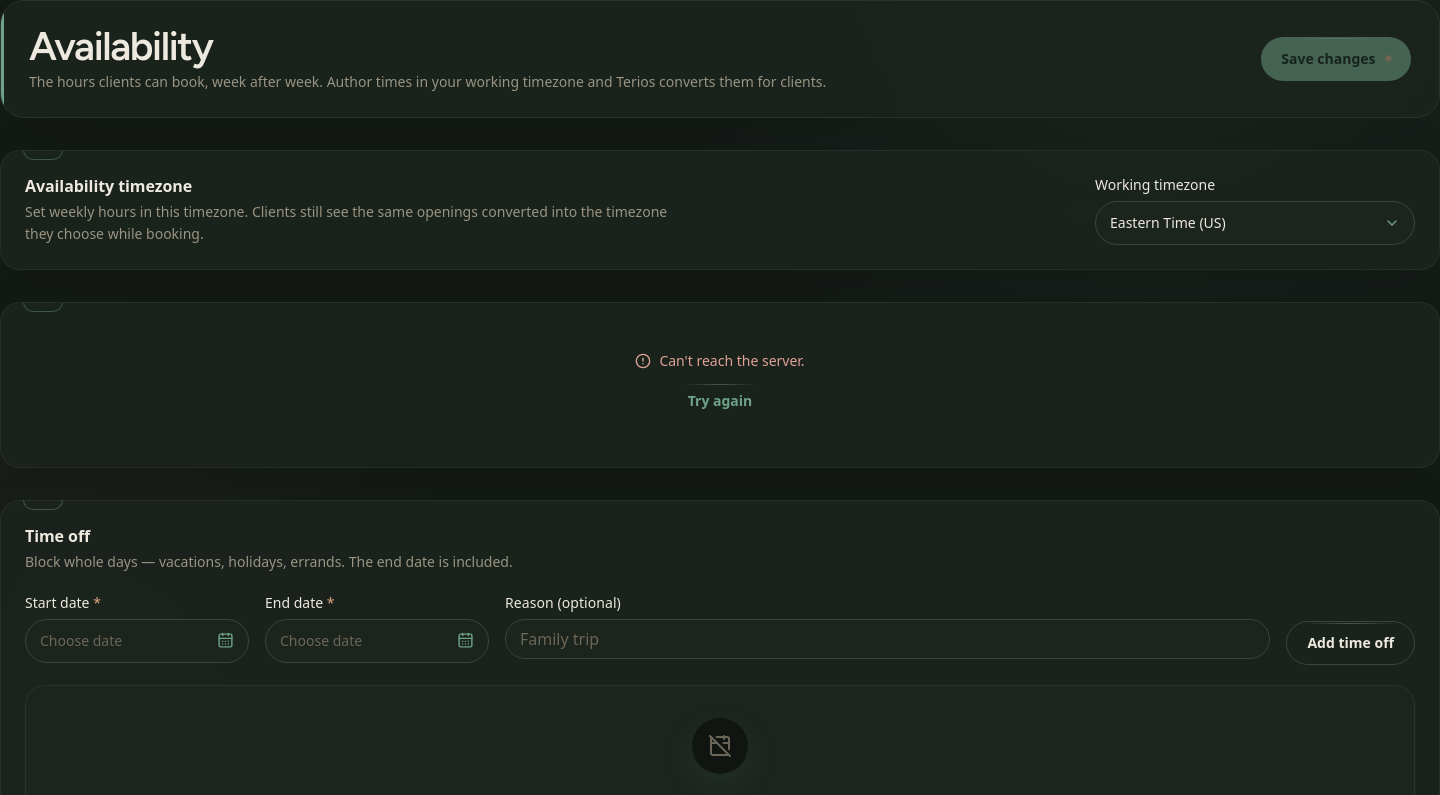
Test: AvailabilityPage › shows an error banner with retry when rules fail to load
Expected: the message reads "Can't reach the server.", left=659, top=351, right=805, bottom=370
Click the button "Try again" at (720, 401), box left=672, top=383, right=768, bottom=419
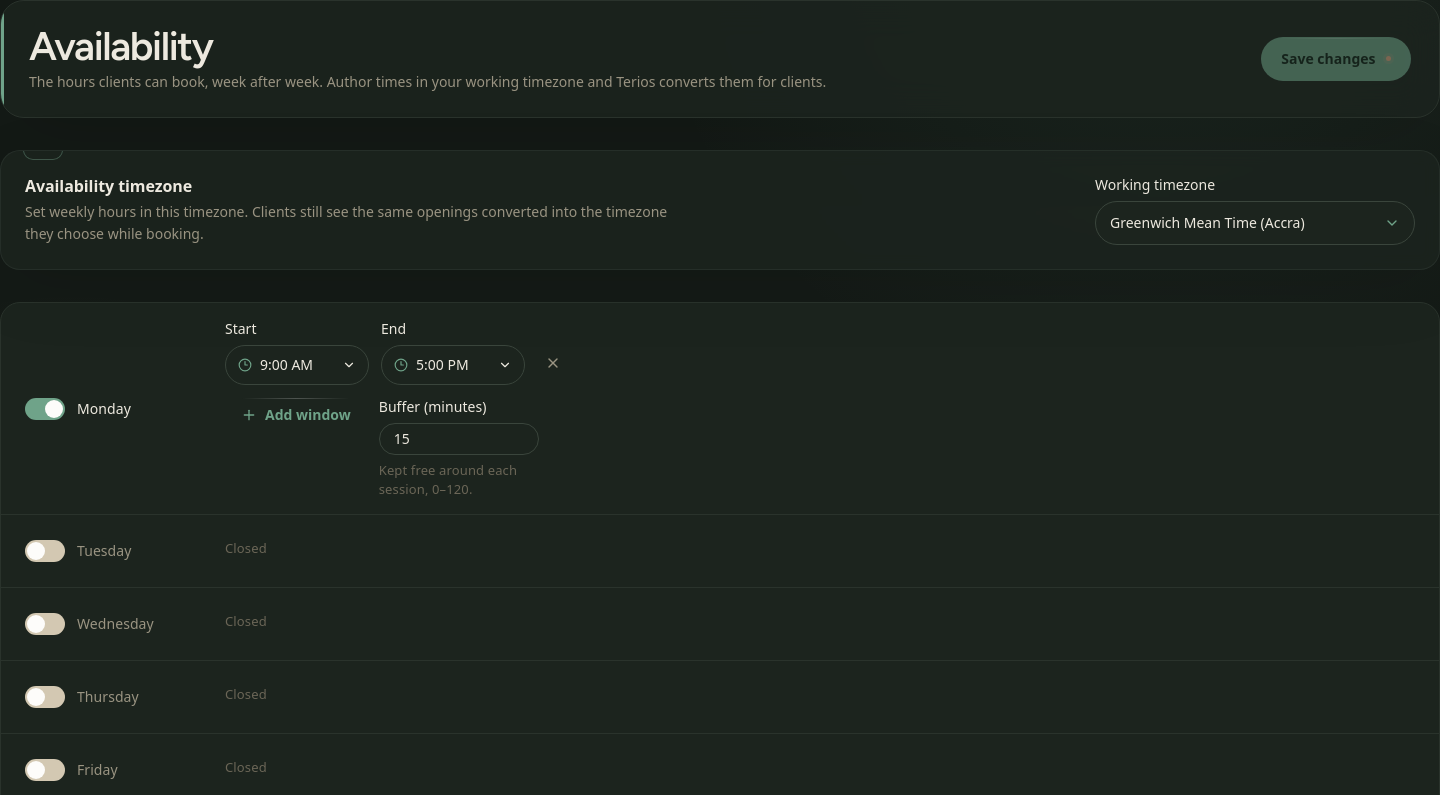
Expected: the element "Monday" is shown, left=1, top=303, right=1439, bottom=515
